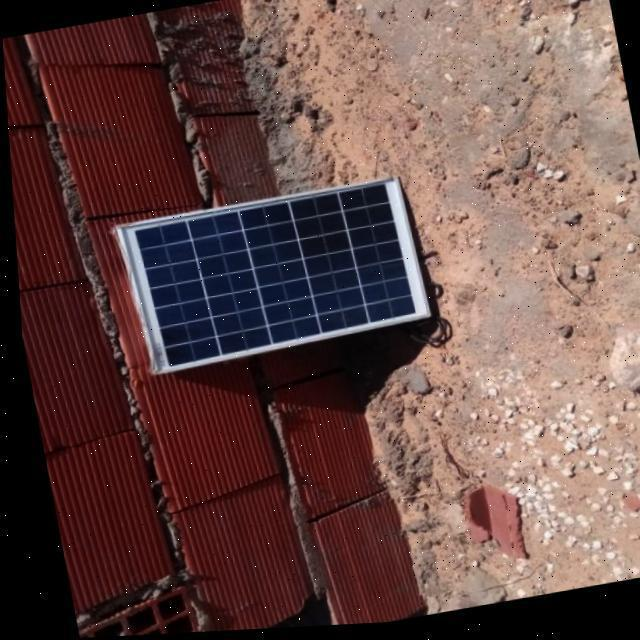Normal Solar Panel: (112, 178, 428, 376)
